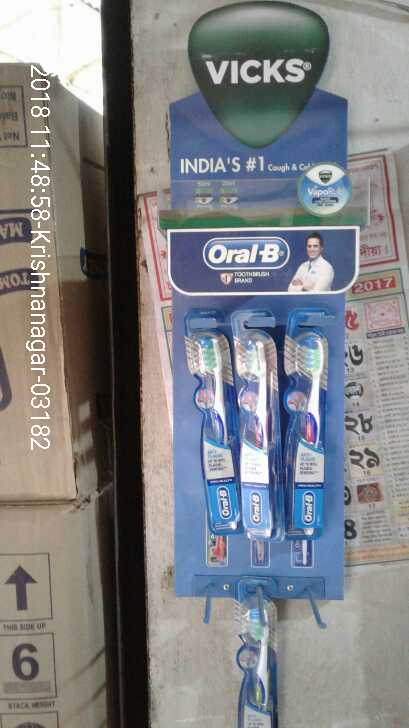oralb: (279, 334, 332, 532), (190, 341, 238, 526), (235, 334, 280, 531)
